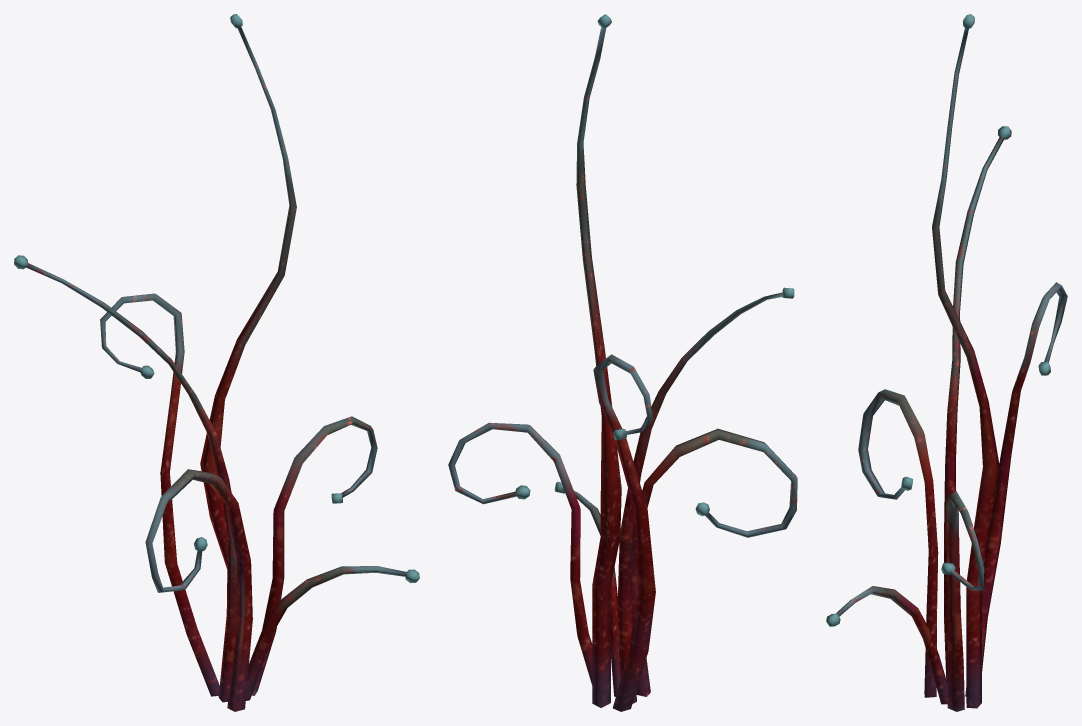
The model's file is Sce_Aquarium_Hawaii01_SeaAnemone12_b.FBX.
3 renders of one model, left to right at view 1: azimuth 30°, elevation 25°; view 2: azimuth 150°, elevation 25°; view 3: azimuth 270°, elevation 25°, orthographic. The views are drawn at different scales.
Parts seen in each view (by area): view 1: Sce_Aquarium_Hawaii01_SeaAnemone12_b; view 2: Sce_Aquarium_Hawaii01_SeaAnemone12_b; view 3: Sce_Aquarium_Hawaii01_SeaAnemone12_b.
Boxes of the visible parts, <box> form: Sce_Aquarium_Hawaii01_SeaAnemone12_b: <box>14,14,419,711</box>; Sce_Aquarium_Hawaii01_SeaAnemone12_b: <box>448,14,797,711</box>; Sce_Aquarium_Hawaii01_SeaAnemone12_b: <box>826,14,1067,711</box>.
Size of the model in its own units: 0.6448 by 1.19 by 0.3773.
